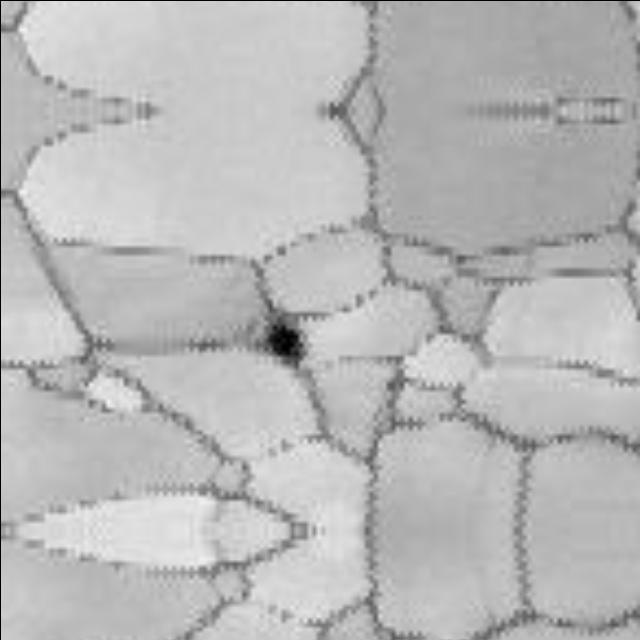good_void: (253, 315, 316, 373)
